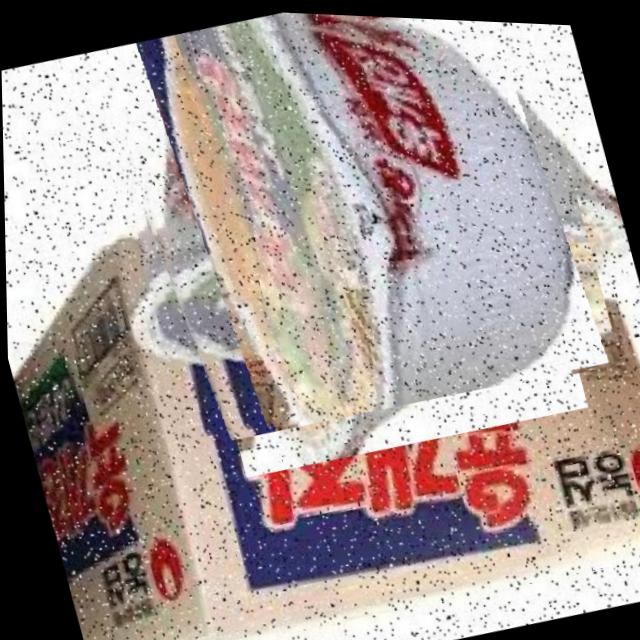Miscellaneous: (83, 3, 620, 461)
